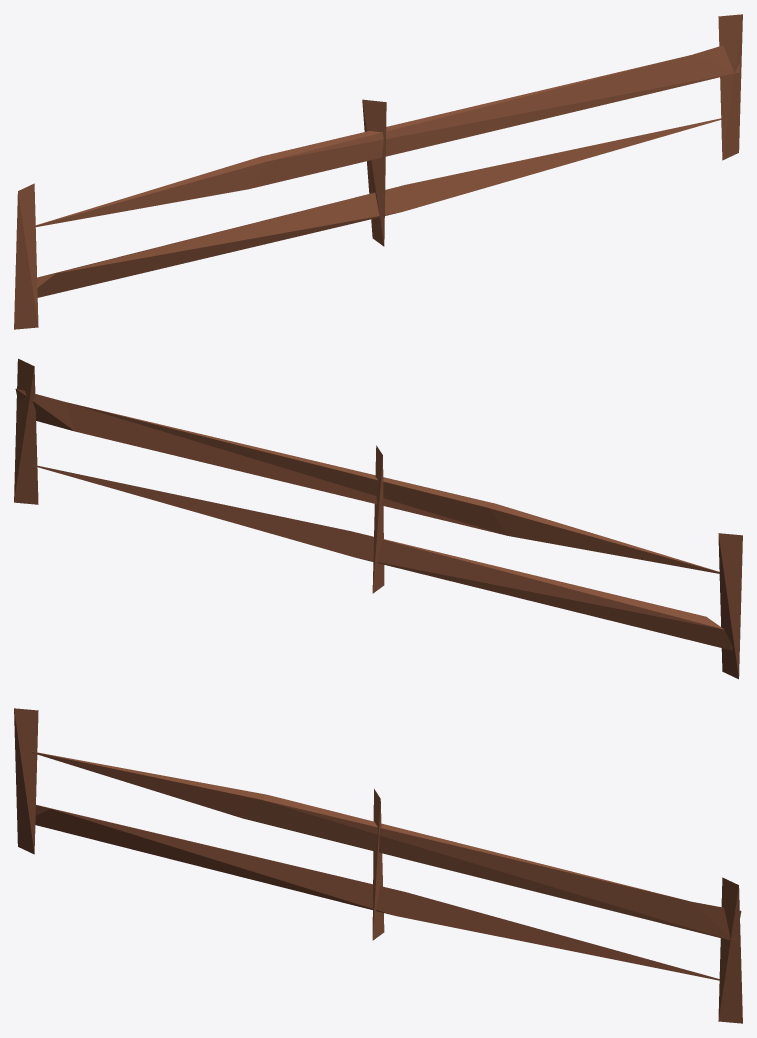
Rendered from Fence.lod2.glb.
The picture shows the model from 3 angles, top to bottom: view 1: azimuth 30°, elevation 25°; view 2: azimuth 150°, elevation 25°; view 3: azimuth 330°, elevation 25°; orthographic projection.
Parts seen in each view (by area): view 1: Fence; view 2: Fence; view 3: Fence.
Part boxes in pixels (x1,y1,x2,y2): Fence: (14, 14, 742, 329); Fence: (14, 358, 742, 679); Fence: (14, 708, 742, 1023).
Size of the model in its own units: 5.89 by 1.1 by 0.1655.
